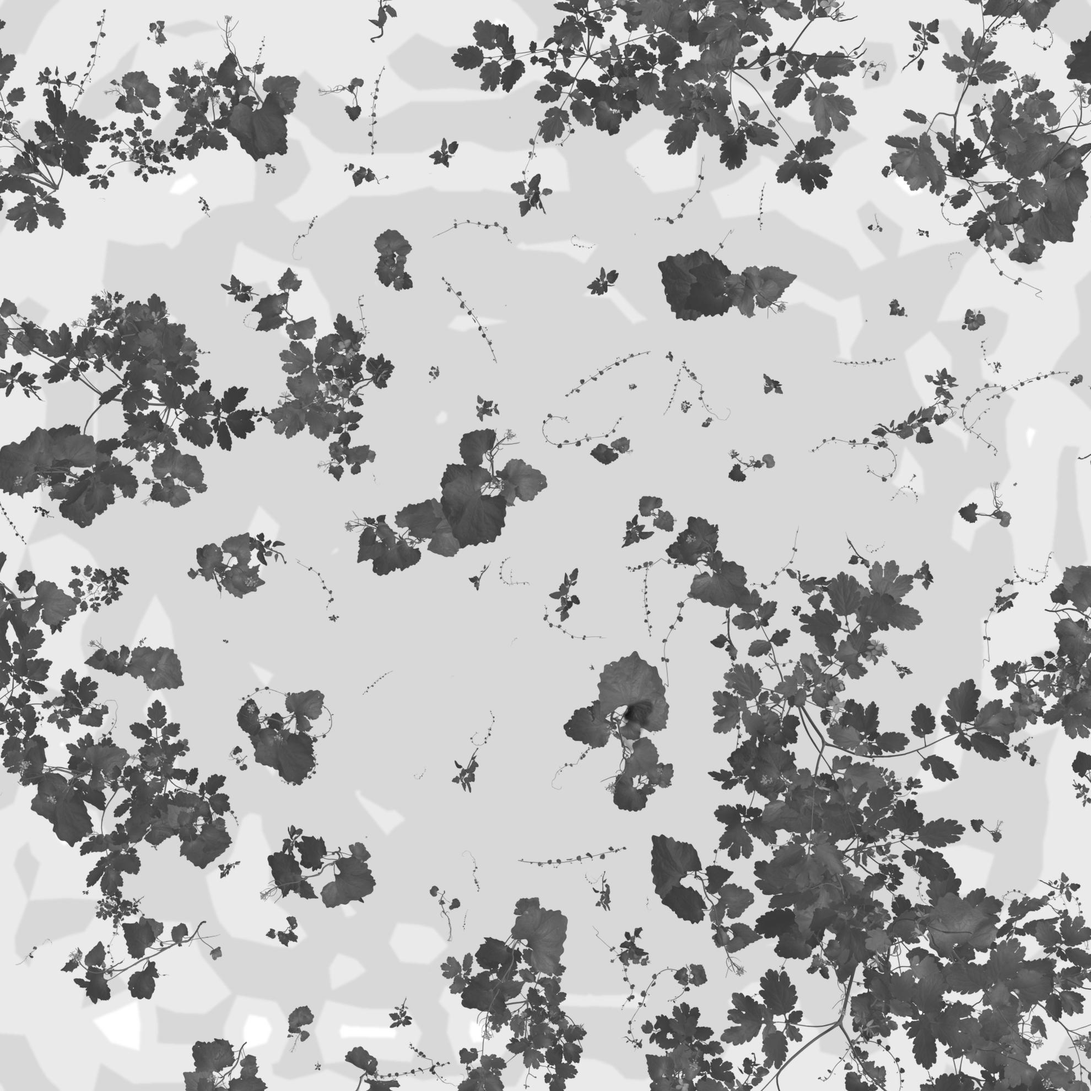landmine: (616, 694, 654, 747)
